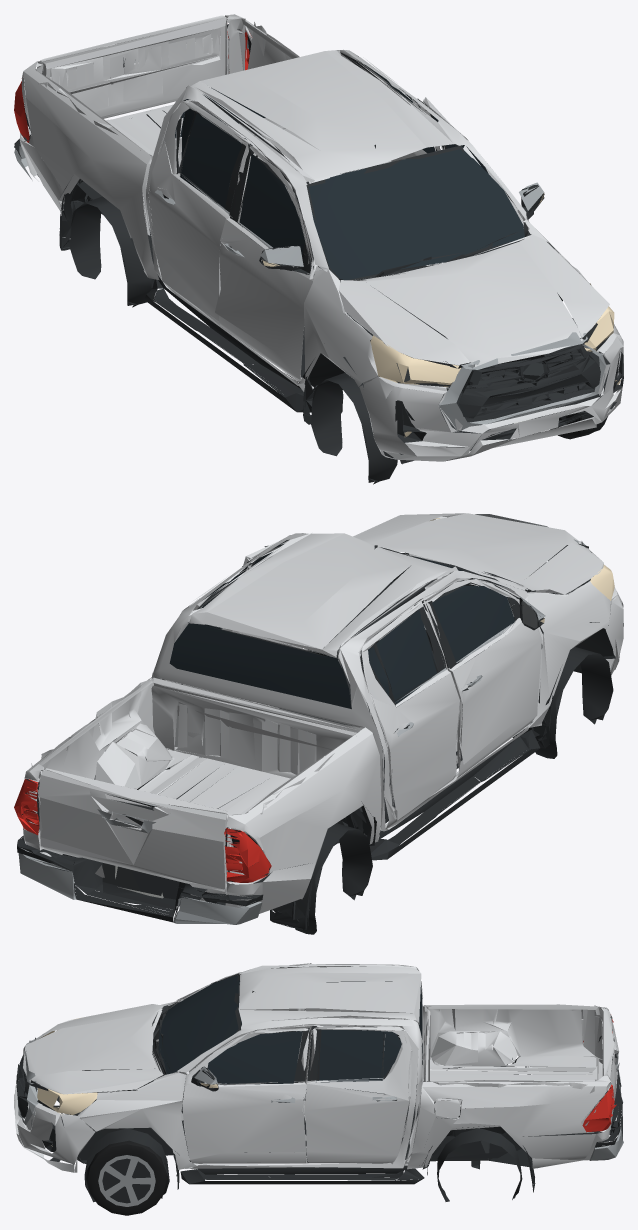
The model's file is pickup-midsize.glb.
3 views of the same model, one above another, from view 1: azimuth 30°, elevation 25°; view 2: azimuth 150°, elevation 25°; view 3: azimuth 270°, elevation 25° (orthographic). The views are drawn at different scales.
Parts seen in each view (by area): view 1: Car body, Car trim, Car glazing, Car wheel discs, Car headlamps, Car tail lamps; view 2: Car body, Car trim, Car glazing, Car wheel discs, Car tail lamps; view 3: Car body, Car trim, Car glazing, Wheel tyre, Car wheel discs, Wheel rim, Wheel well, Car headlamps, Car tail lamps.
Part boxes in pixels (box(x1,y1,x2,y2)): Car body: box(19, 14, 623, 461); Car trim: box(14, 24, 623, 484); Car glazing: box(175, 64, 524, 280); Car wheel discs: box(14, 40, 606, 430); Car headlamps: box(262, 192, 620, 437); Car tail lamps: box(14, 30, 249, 142); Car body: box(23, 513, 623, 913); Car trim: box(17, 517, 623, 934); Car glazing: box(169, 544, 514, 708); Car wheel discs: box(18, 514, 586, 924); Car tail lamps: box(14, 779, 271, 882); Car body: box(14, 963, 619, 1172); Car trim: box(16, 966, 622, 1202); Car glazing: box(158, 975, 422, 1084); Wheel tyre: box(86, 1140, 168, 1215); Car wheel discs: box(18, 983, 623, 1160); Wheel rim: box(98, 1155, 155, 1206); Wheel well: box(102, 1155, 152, 1203); Car headlamps: box(37, 1017, 217, 1146); Car tail lamps: box(582, 1019, 616, 1132).
Bounding box in the file's own units: 2.07 × 1.79 × 5.33.
